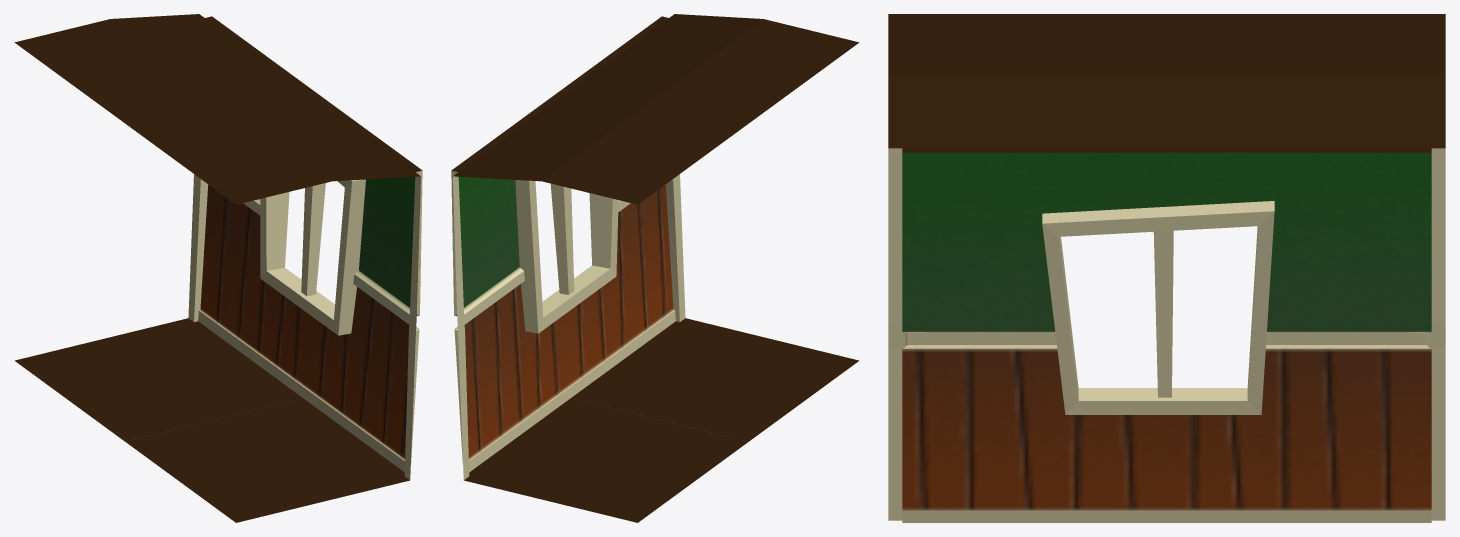
Rendered from Straight_Through_Window.fbx.
3 renders of one model, left to right at view 1: azimuth 30°, elevation 25°; view 2: azimuth 150°, elevation 25°; view 3: azimuth 270°, elevation 25°, orthographic. The views are drawn at different scales.
Parts seen in each view (by area): view 1: Straight_Through_Window; view 2: Straight_Through_Window; view 3: Straight_Through_Window.
Part boxes in pixels (left/top/right/bottom): Straight_Through_Window: left=14, top=14, right=422, bottom=522; Straight_Through_Window: left=451, top=14, right=859, bottom=522; Straight_Through_Window: left=888, top=14, right=1445, bottom=522.
Bounding box in the file's own units: 2.15 × 3.17 × 4.
